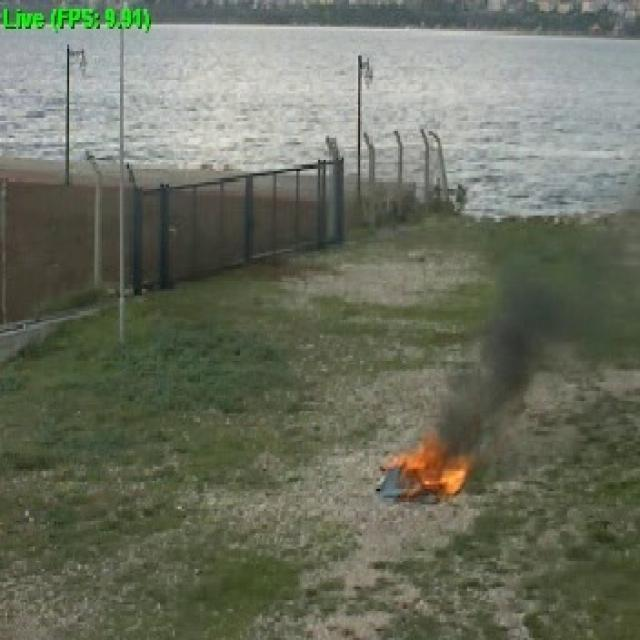Fire: (394, 441, 462, 496)
